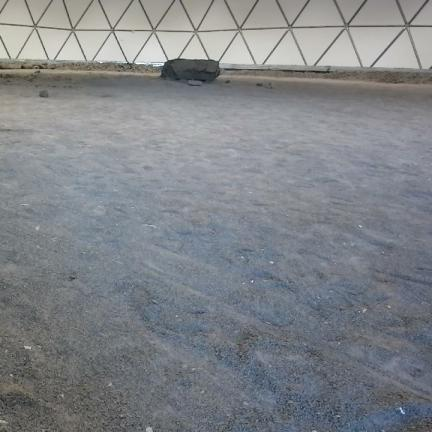Rock: (161, 58, 220, 81), (187, 80, 202, 85), (39, 90, 49, 97), (266, 82, 273, 88), (70, 275, 76, 280), (257, 83, 263, 86), (35, 70, 40, 73), (226, 80, 230, 83), (62, 86, 67, 88)
